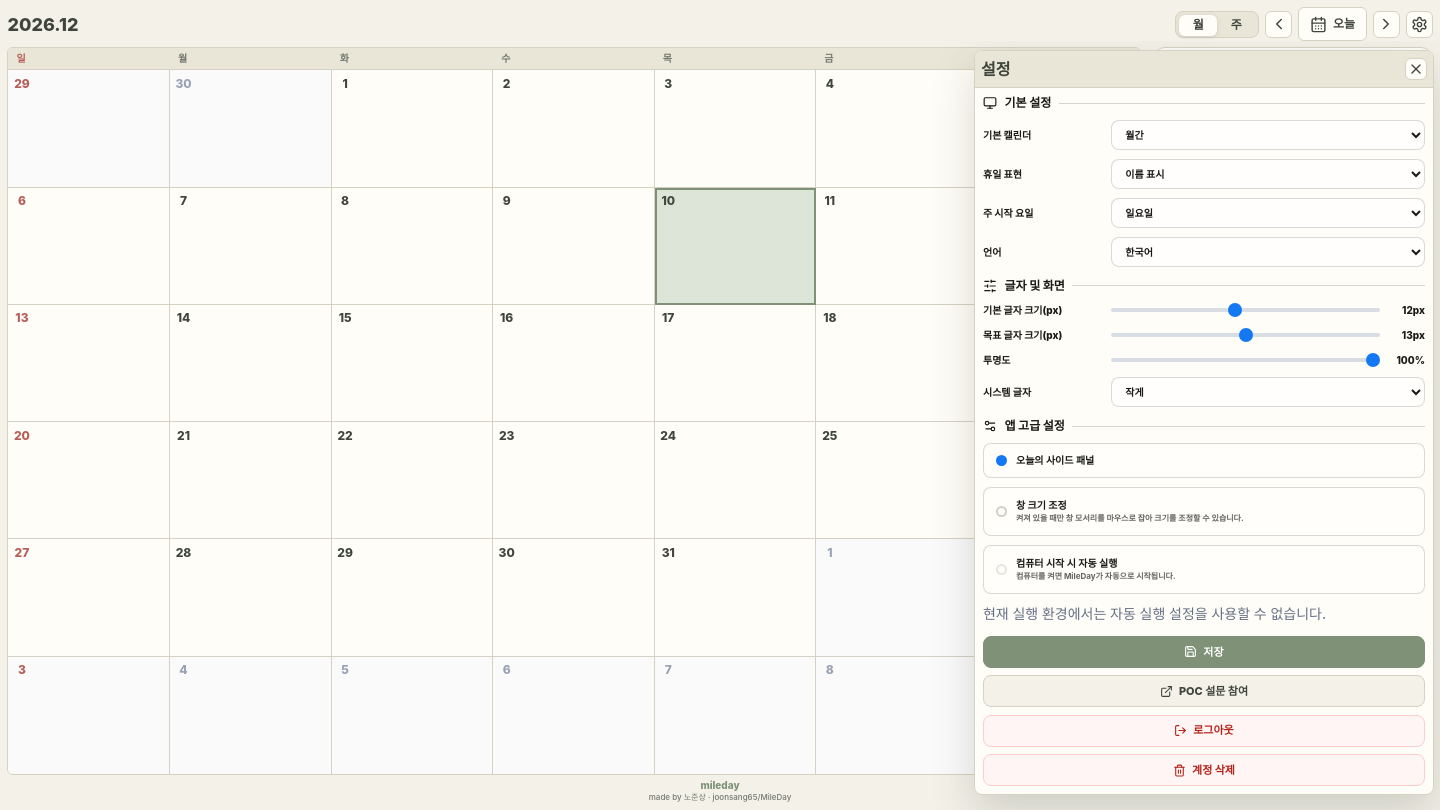
Test: today side panel integration › restores the setting and panel when saving the local option fails
Expected: the button named "오늘 작업" is shown, x1=1173 y1=172 x2=1201 y2=200
Step 1. Click the checkbox labelled "오늘의 사이드 패널" → (1001, 460), box x1=996 y1=455 x2=1007 y2=466
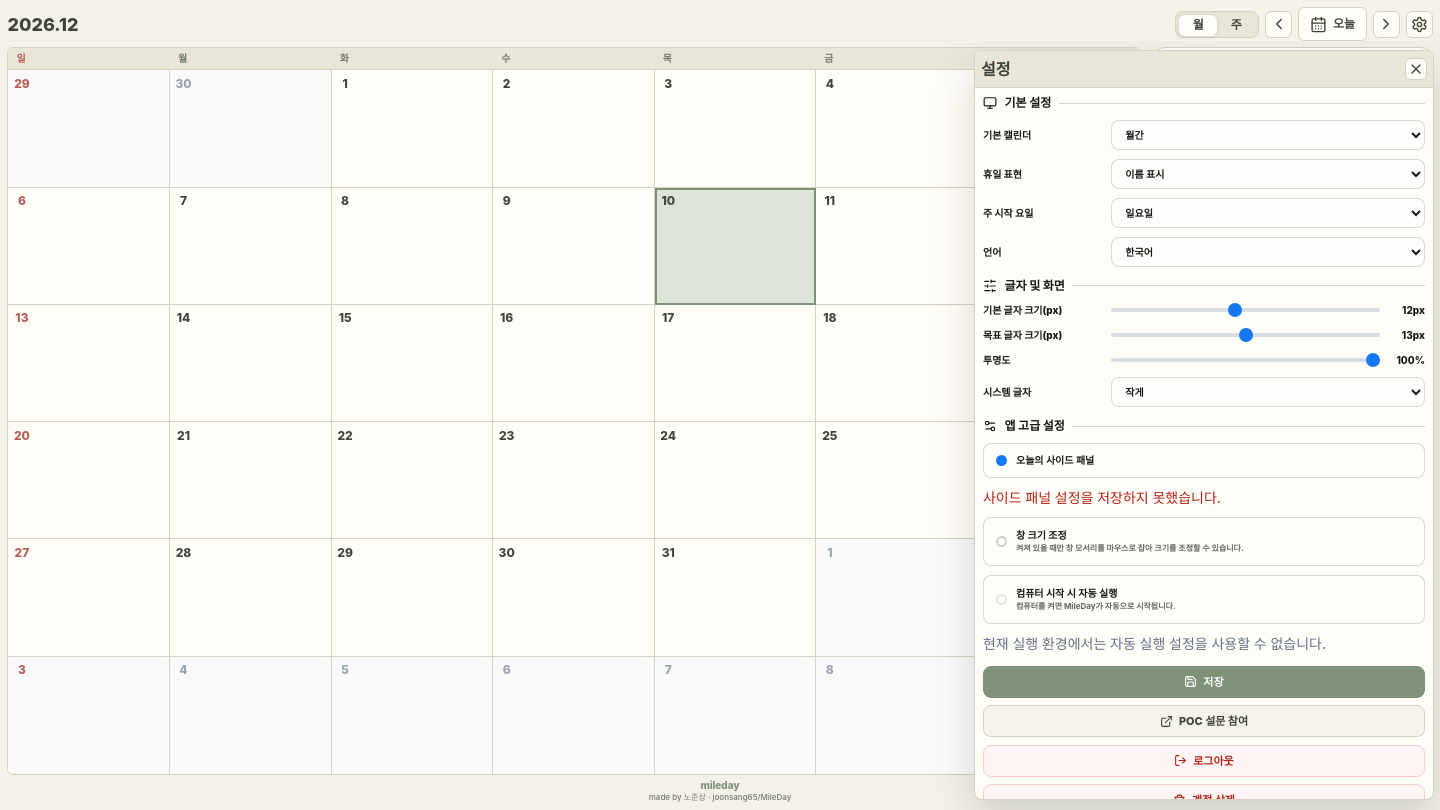
Expected: the element showing "오늘의 일정 2026-10-15 완료한 마일스톤 0 / 2 목표 오늘 작업 다른 작업" is shown, x1=1152 y1=48 x2=1432 y2=775
Now the message shows "저장하지 못했습니다", box x1=983 y1=489 x2=1221 y2=506
